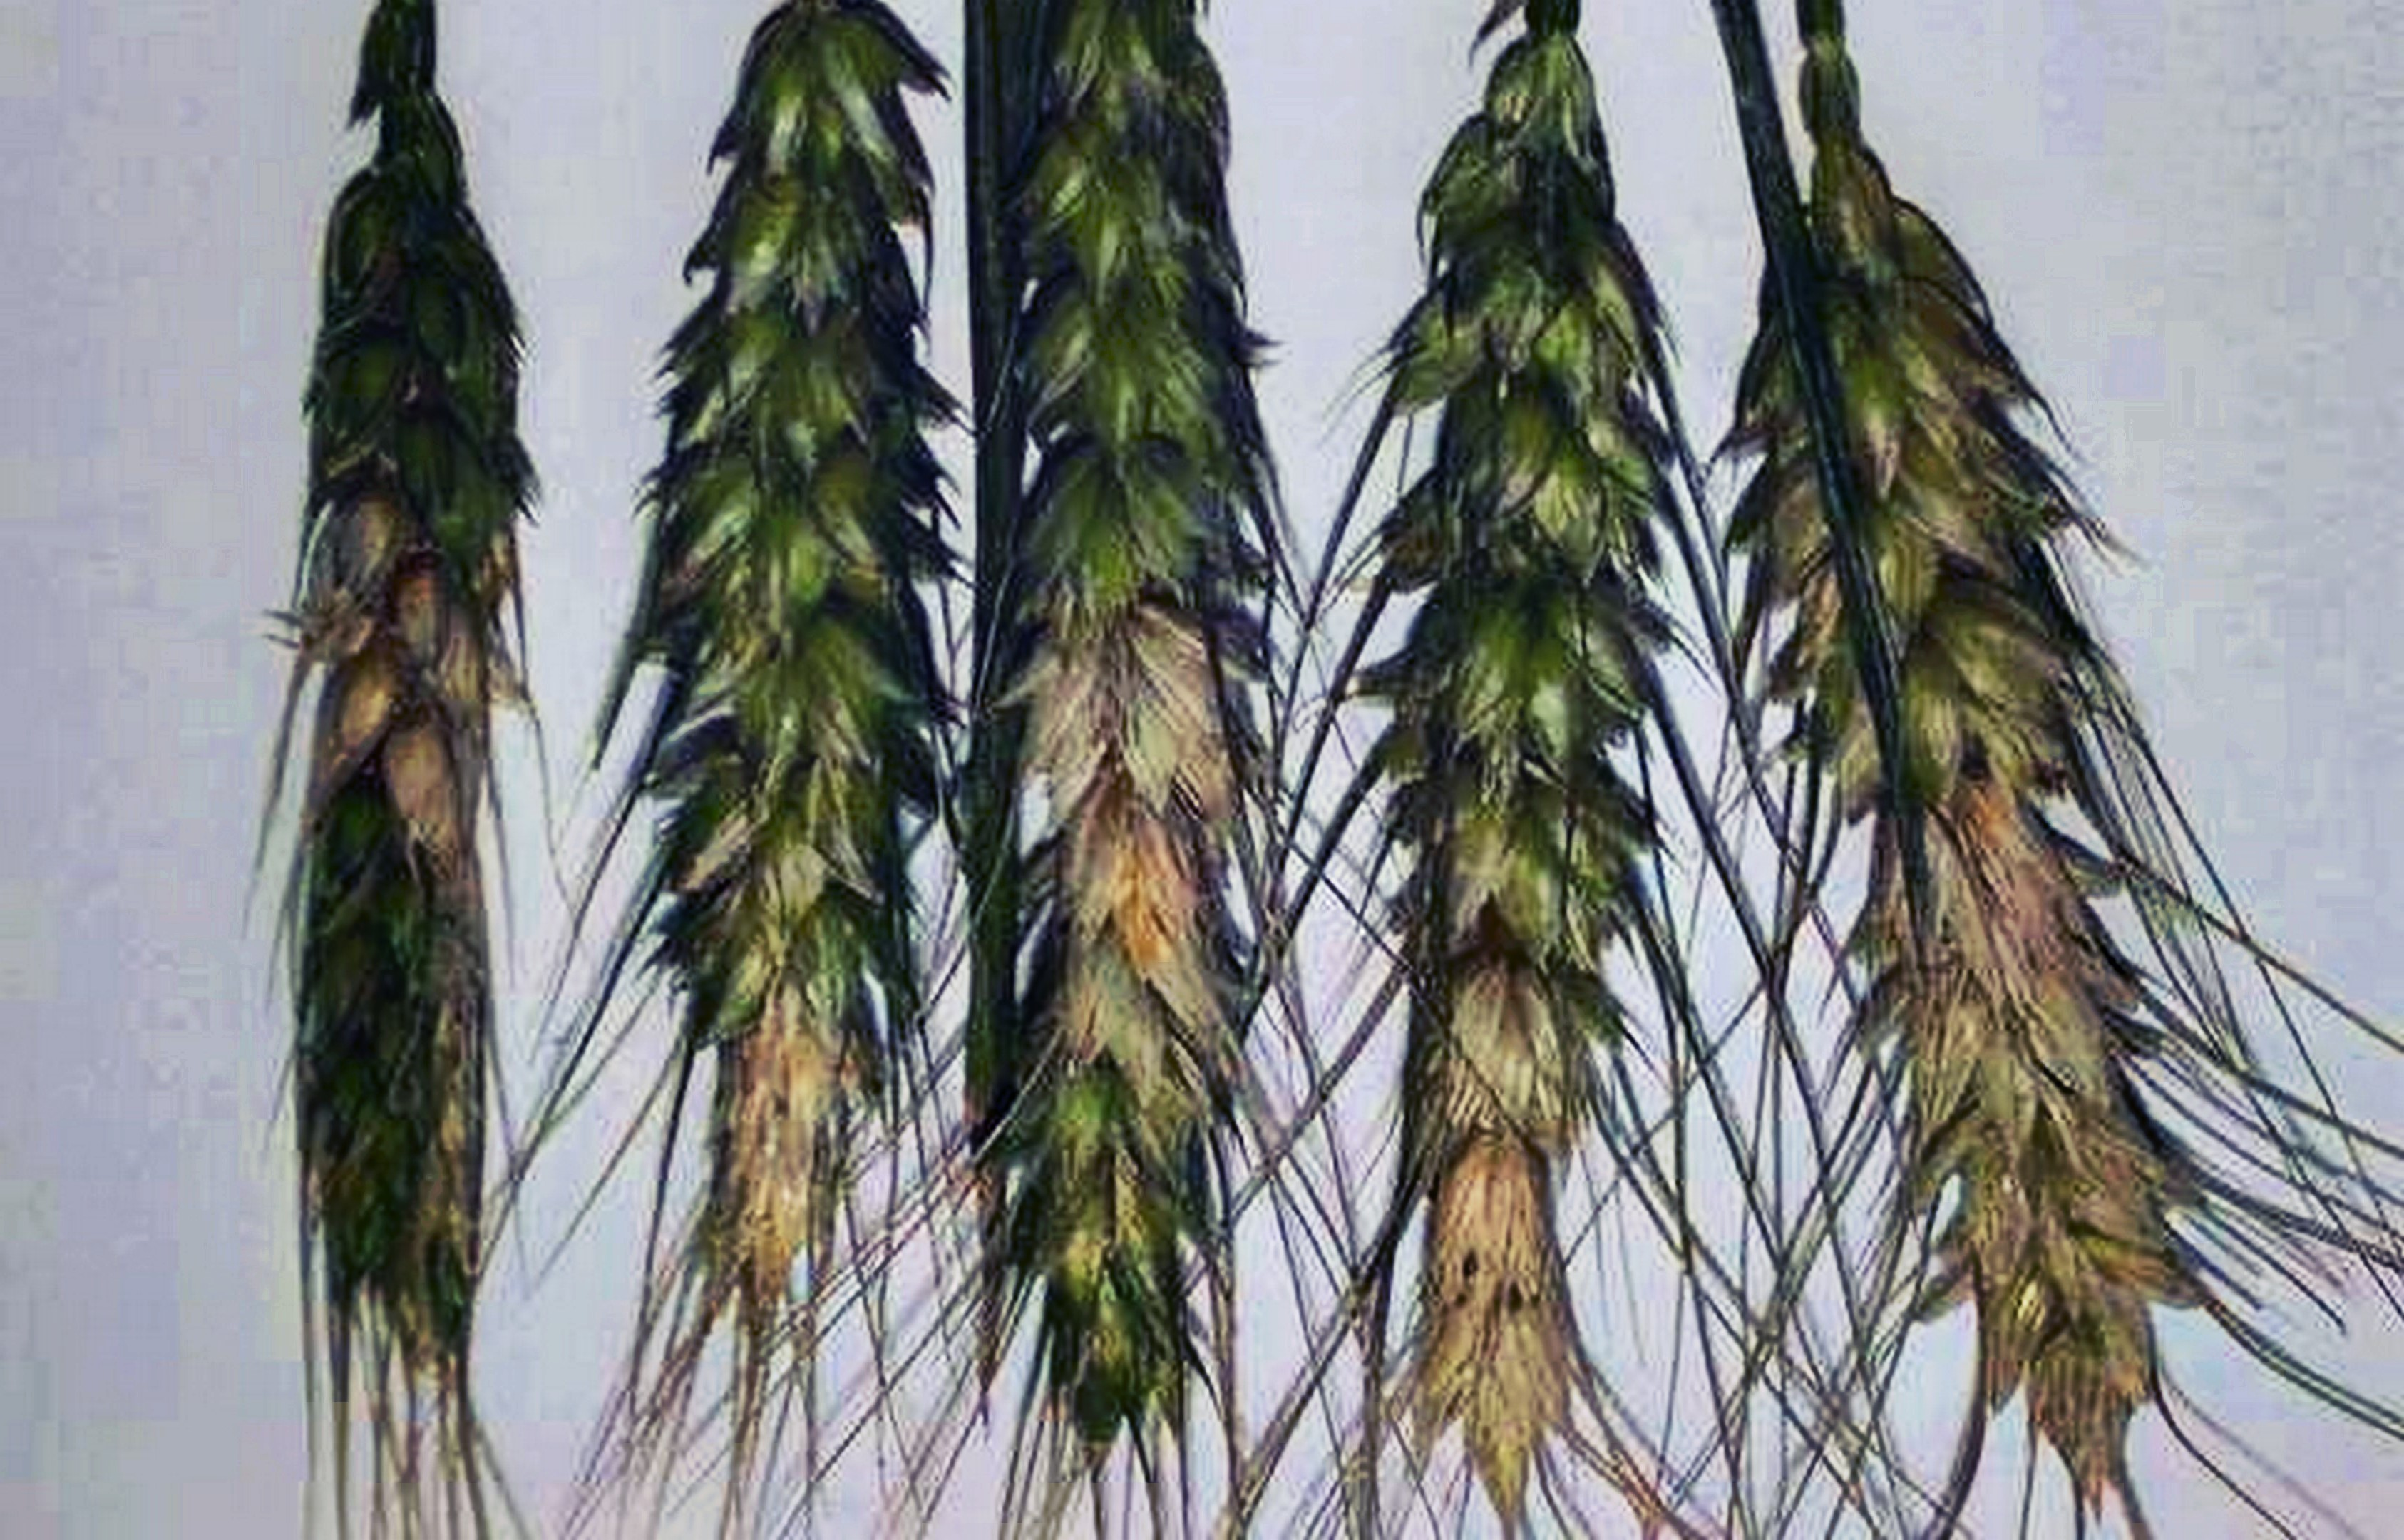Wheat scab: (1353, 54, 1729, 1514), (962, 11, 1276, 1395)
